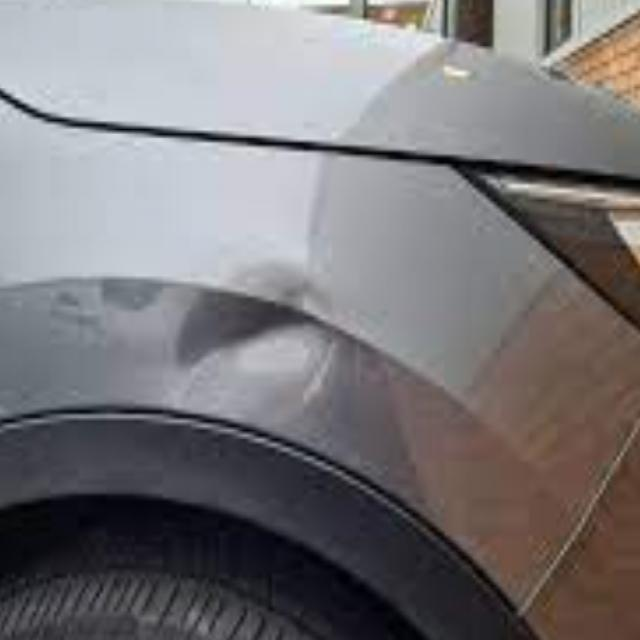dents: (168, 246, 374, 443)
